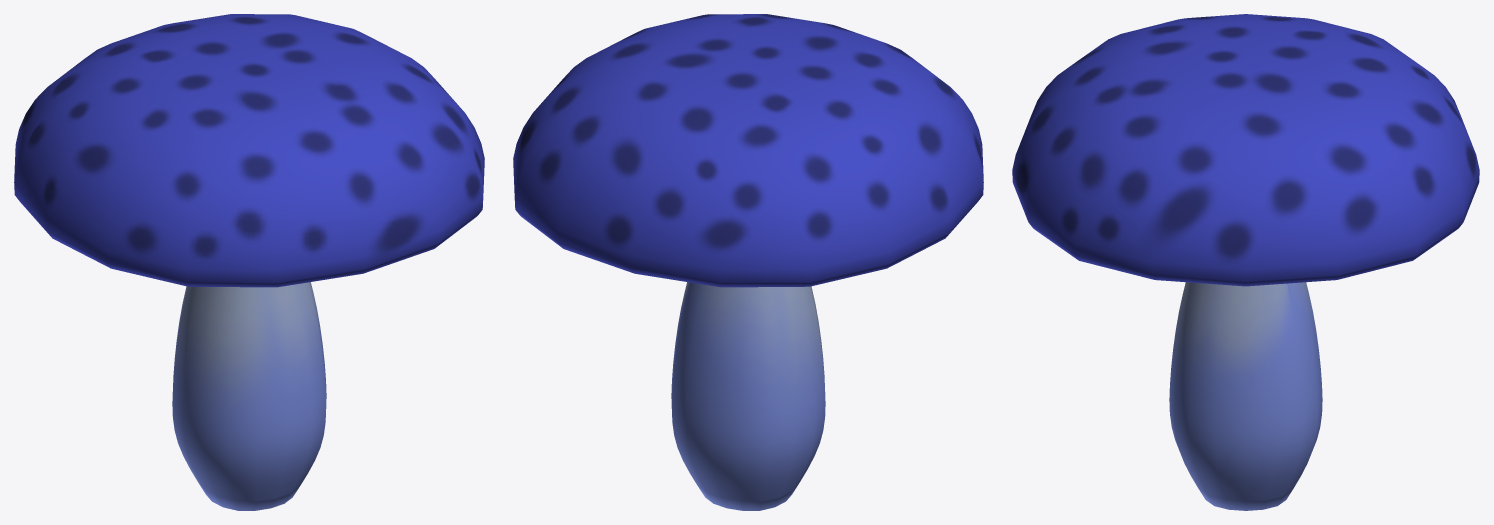
The model's file is tatti.fbx.
The picture shows the model from 3 angles, left to right: view 1: azimuth 30°, elevation 25°; view 2: azimuth 150°, elevation 25°; view 3: azimuth 270°, elevation 25°; orthographic projection.
Parts seen in each view (by area): view 1: Cube; view 2: Cube; view 3: Cube.
Part boxes in pixels (x1,y1,x2,y2): Cube: (14,14,484,510); Cube: (513,14,983,510); Cube: (1012,14,1479,510).
Size of the model in its own units: 5.94 by 6.08 by 5.94.
Materials: 1 (1 with a texture image).
